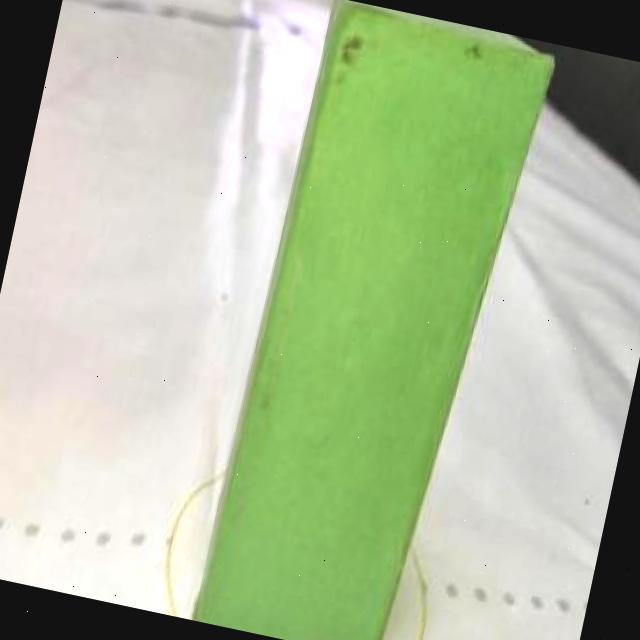greenbox: (193, 0, 558, 640)
